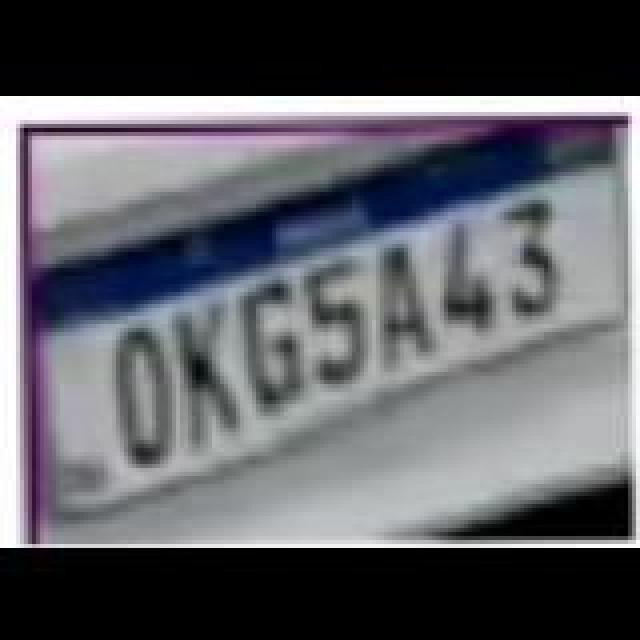3: (506, 194, 566, 318)
4: (440, 220, 496, 332)
5: (302, 258, 370, 382)
A: (380, 238, 436, 362)
G: (242, 278, 310, 410)
K: (178, 300, 246, 444)
O: (116, 320, 180, 464)
